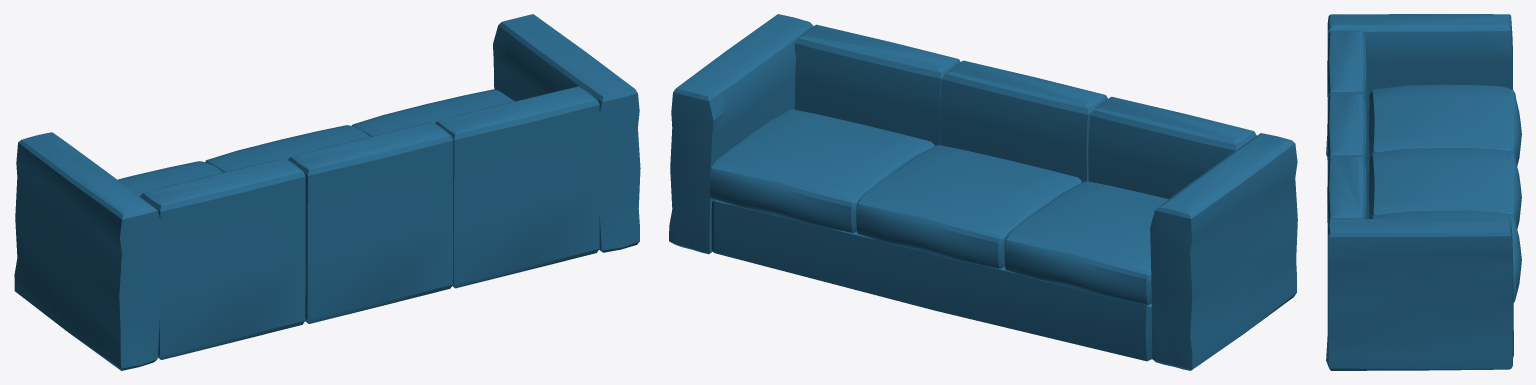
File: Sofa-Blue.glb
3 renders of one model, left to right at view 1: azimuth 30°, elevation 25°; view 2: azimuth 150°, elevation 25°; view 3: azimuth 270°, elevation 25°, orthographic. The views are drawn at different scales.
Visible parts, largest first — view 1: Group1.2; view 2: Group1.2; view 3: Group1.2.
Boxes of the visible parts, x1,y1,x2,y2 form: Group1.2: (14, 14, 640, 370); Group1.2: (669, 14, 1297, 370); Group1.2: (1326, 14, 1521, 370).
Bounding box in the file's own units: 76.11 × 21.93 × 28.08.
